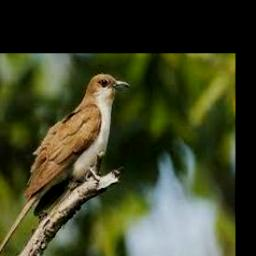Cuckoo: (0, 73, 130, 256)
